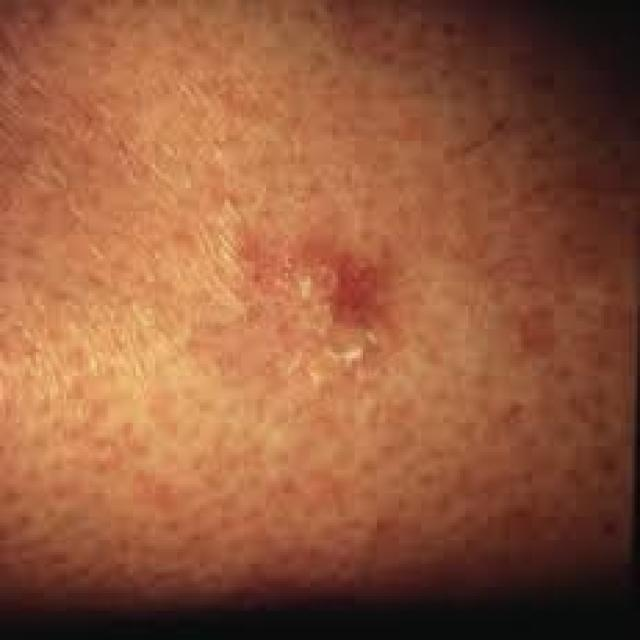kene: (204, 214, 445, 406)
